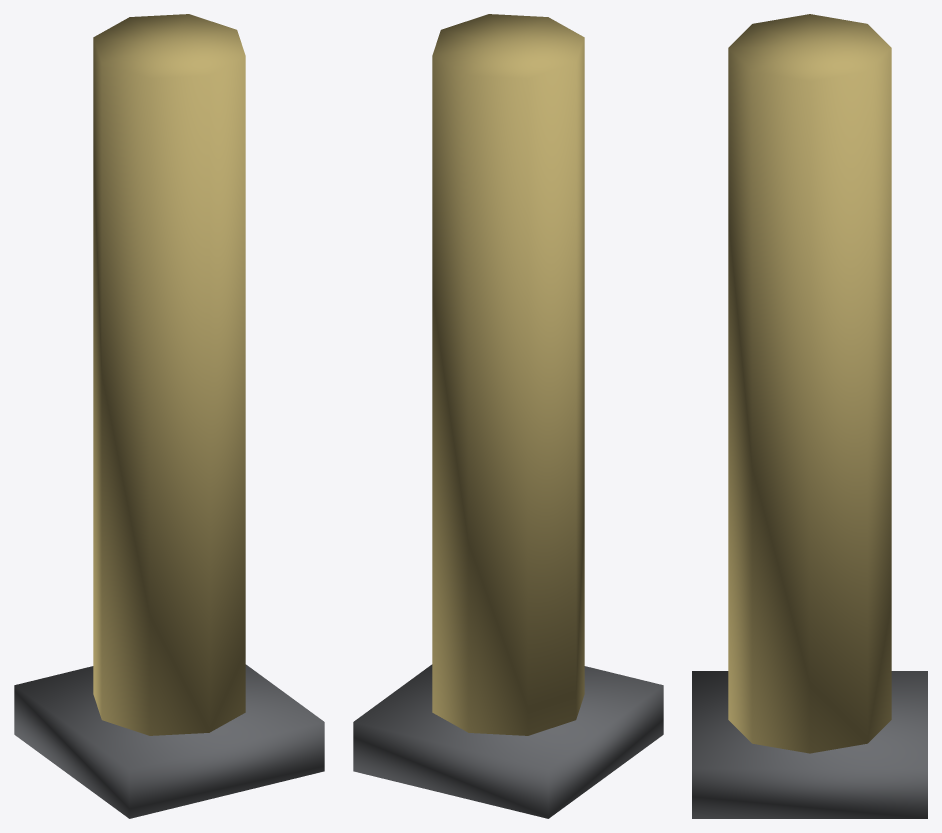
The model's file is bollard_01.glb.
3 renders of one model, left to right at view 1: azimuth 30°, elevation 25°; view 2: azimuth 150°, elevation 25°; view 3: azimuth 270°, elevation 25°, orthographic. The views are drawn at different scales.
Parts seen in each view (by area): view 1: world; view 2: world; view 3: world.
Part boxes in pixels (x1,y1,x2,y2): world: (14, 14, 324, 818); world: (353, 14, 663, 818); world: (692, 14, 927, 818).
Bounding box in the file's own units: 0.2288 × 0.7912 × 0.234.
